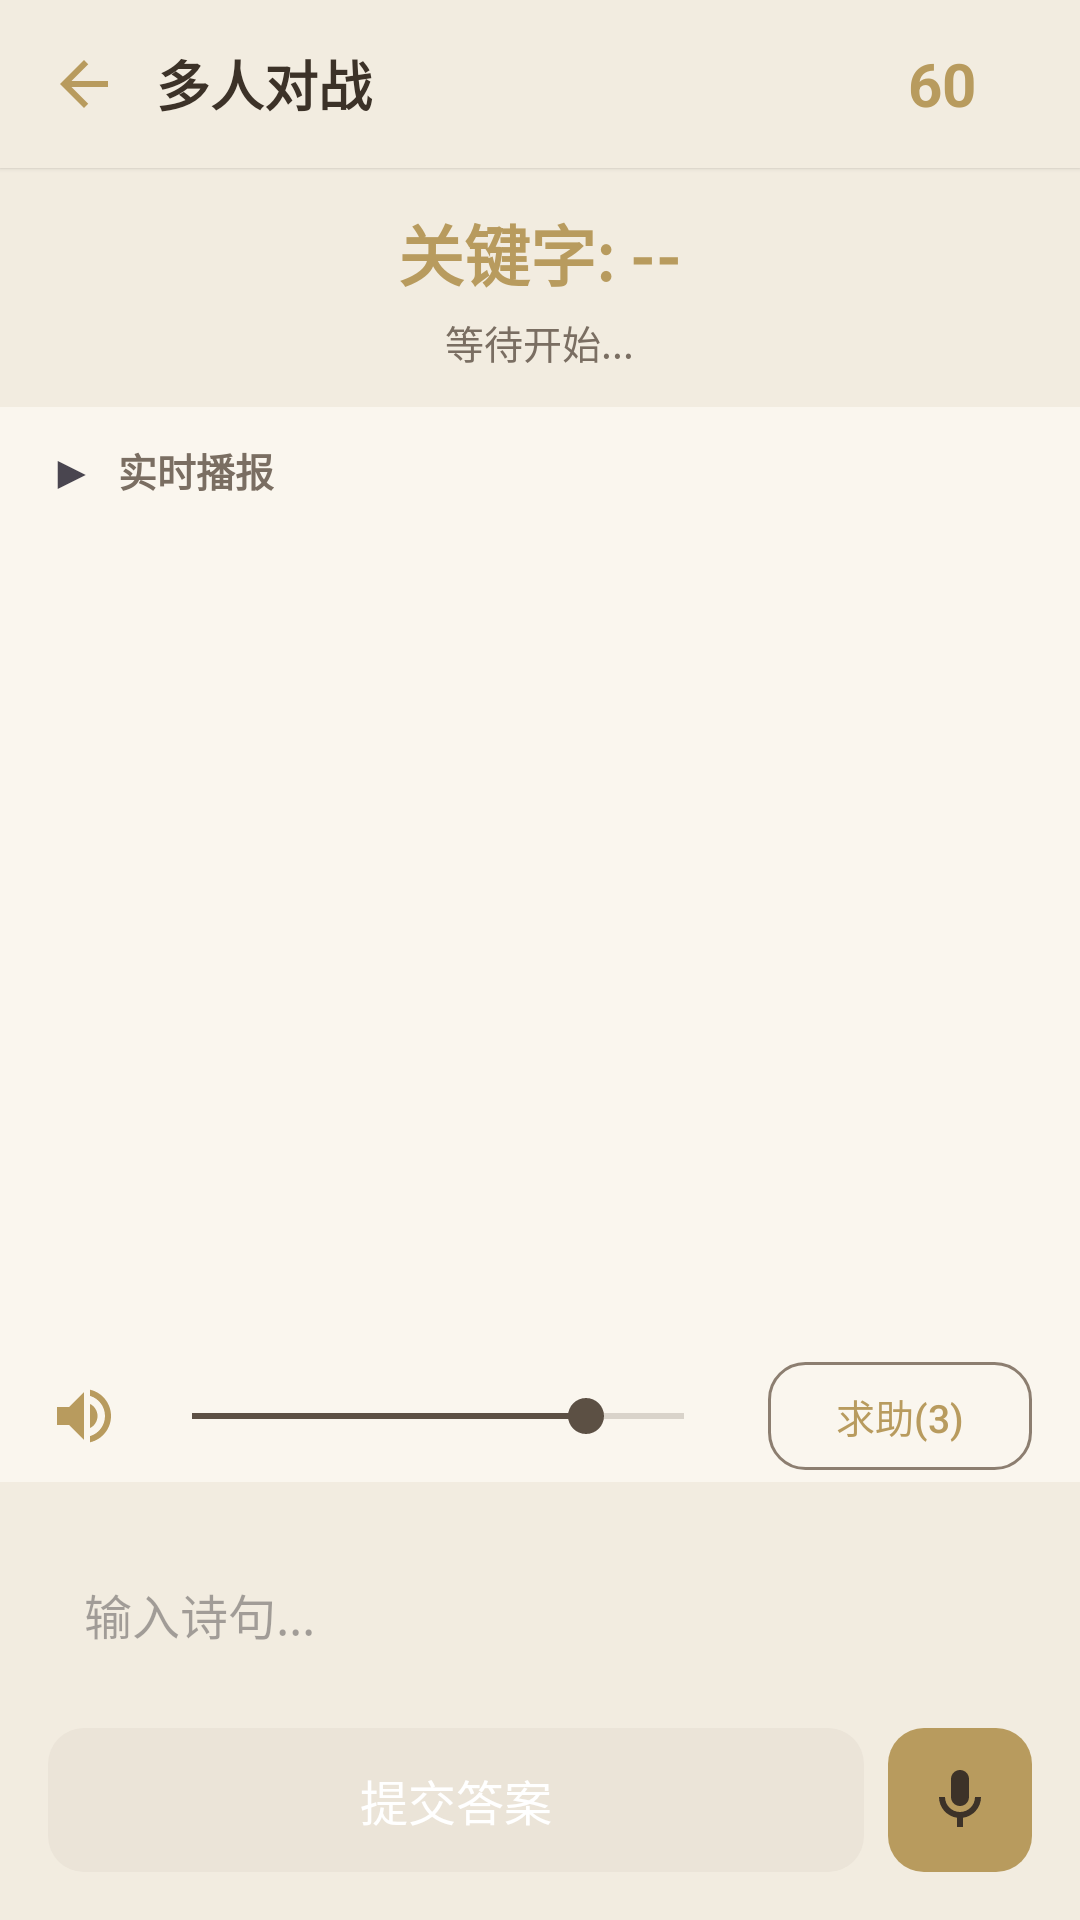

Screen size 1080px×1920px. Icon name, then its center in pixels as (x,y):
arrow back: (84,84)
语音输入: (960,1798)
音量: (84,1416)
